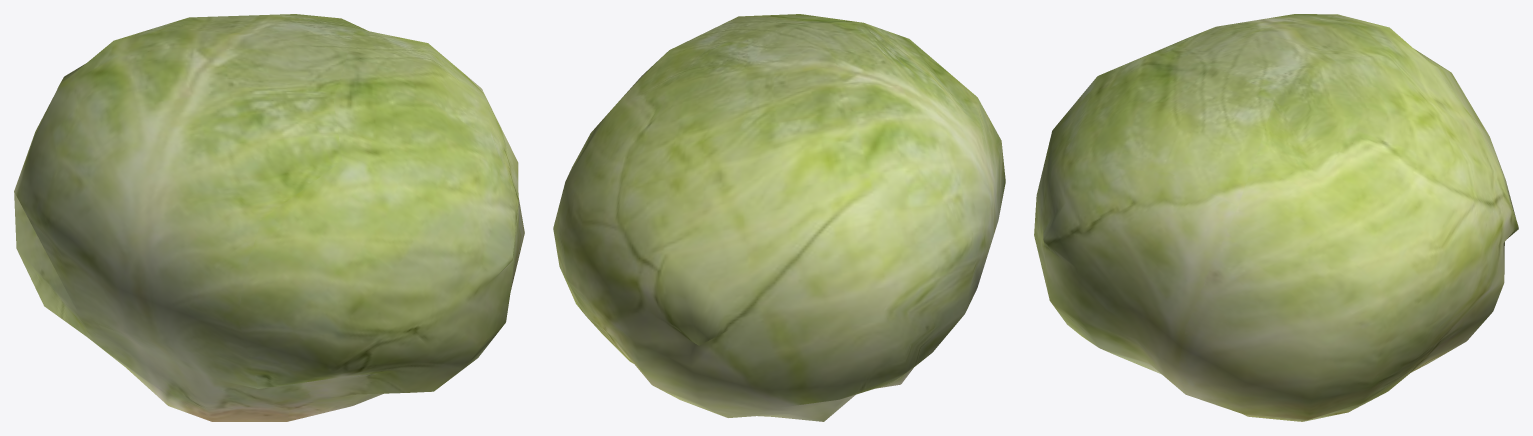
File: A96_Cabbage_low.fbx
3 views of the same model, side by side, from view 1: azimuth 30°, elevation 25°; view 2: azimuth 150°, elevation 25°; view 3: azimuth 270°, elevation 25° (orthographic). The views are drawn at different scales.
Visible parts, largest first — view 1: A96_Cabbage_low; view 2: A96_Cabbage_low; view 3: A96_Cabbage_low.
Part boxes in pixels (x1,y1,x2,y2): A96_Cabbage_low: (14,14,524,421); A96_Cabbage_low: (553,14,1005,421); A96_Cabbage_low: (1034,14,1518,421).
Bounding box in the file's own units: 26.56 × 28.42 × 21.32.
Materials: 1 (1 with a texture image).
